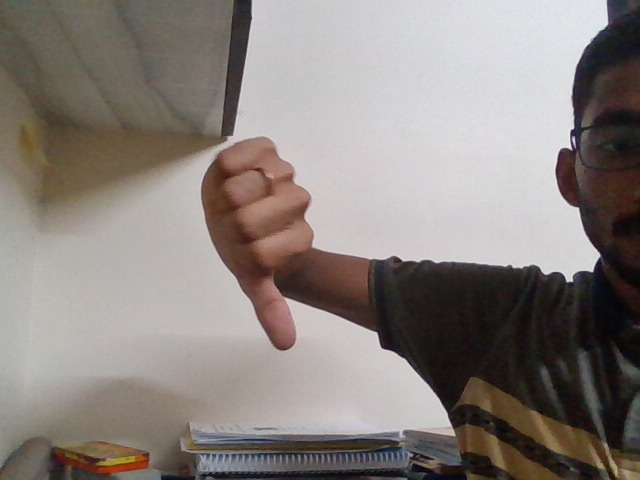No: (180, 117, 338, 375)
